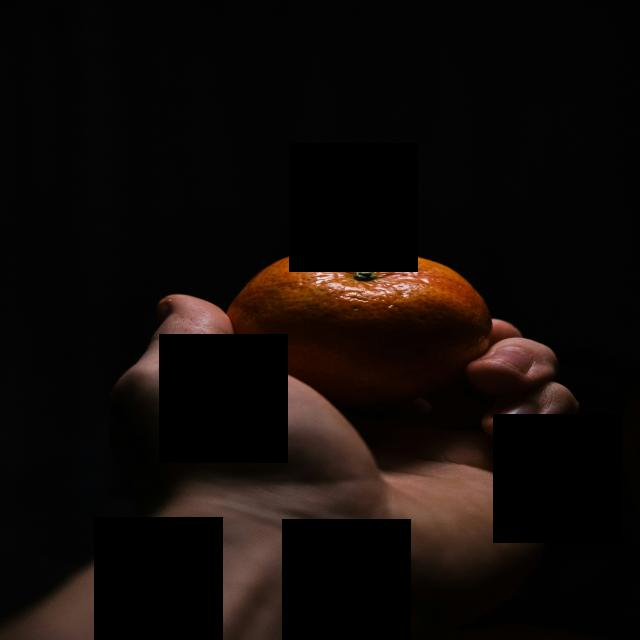tangerine: (225, 248, 498, 420)
